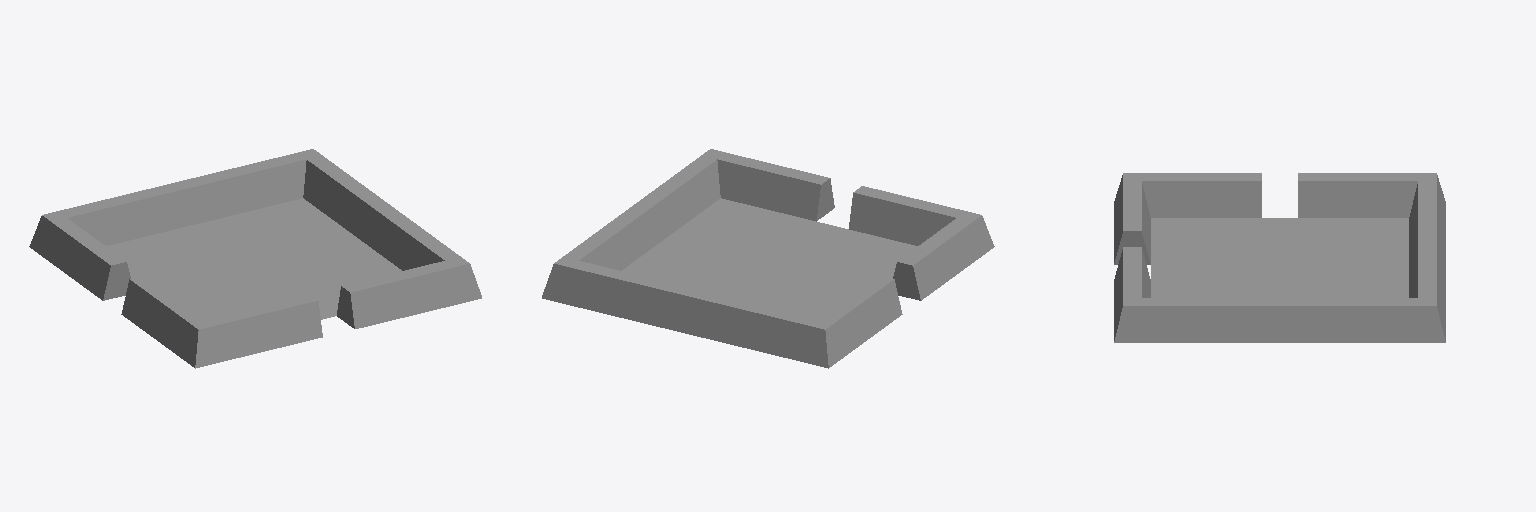
The model's file is sala_06.obj.
The picture shows the model from 3 angles: view 1: azimuth 30°, elevation 25°; view 2: azimuth 150°, elevation 25°; view 3: azimuth 270°, elevation 25°; orthographic projection.
Parts seen in each view (by area): view 1: Ground_Plane, Wall.000_Cube.011, Wall.007_Cube.017, Wall.002_Cube.014, Wall.005_Cube.002, Wall.004_Cube.015, Wall.006_Cube.016, Wall.003_Cube.010, Wall.001_Cube.012; view 2: Ground_Plane, Wall.005_Cube.002, Wall.002_Cube.014, Wall.000_Cube.011, Wall.006_Cube.016, Wall.007_Cube.017, Wall.004_Cube.015, Wall.001_Cube.012, Wall.003_Cube.010; view 3: Ground_Plane, Wall.003_Cube.010, Wall.001_Cube.012, Wall.004_Cube.015, Wall.006_Cube.016, Wall.007_Cube.017, Wall.005_Cube.002, Wall.002_Cube.014, Wall.000_Cube.011.
Part boxes in pixels (x1,y1,x2,y2): Ground_Plane: (106, 198, 401, 319); Wall.000_Cube.011: (337, 261, 481, 328); Wall.007_Cube.017: (195, 294, 322, 368); Wall.002_Cube.014: (178, 149, 312, 224); Wall.005_Cube.002: (44, 182, 190, 245); Wall.004_Cube.015: (29, 215, 130, 300); Wall.006_Cube.016: (121, 275, 204, 367); Wall.003_Cube.010: (303, 149, 390, 244); Wall.001_Cube.012: (368, 206, 468, 270); Ground_Plane: (622, 198, 917, 318); Wall.005_Cube.002: (685, 290, 828, 368); Wall.002_Cube.014: (542, 261, 697, 332); Wall.000_Cube.011: (711, 149, 834, 221); Wall.006_Cube.016: (893, 215, 994, 300); Wall.007_Cube.017: (849, 186, 979, 245); Wall.004_Cube.015: (819, 275, 902, 367); Wall.001_Cube.012: (633, 149, 720, 244); Wall.003_Cube.010: (555, 206, 655, 270); Ground_Plane: (1151, 218, 1408, 297); Wall.003_Cube.010: (1280, 298, 1445, 342); Wall.001_Cube.012: (1114, 298, 1279, 342); Wall.004_Cube.015: (1298, 173, 1435, 217); Wall.006_Cube.016: (1124, 173, 1261, 217); Wall.007_Cube.017: (1114, 173, 1150, 264); Wall.005_Cube.002: (1409, 173, 1445, 270); Wall.002_Cube.014: (1409, 239, 1445, 340); Wall.000_Cube.011: (1114, 247, 1150, 340).
Bounding box in the file's own units: 18 × 2 × 18.